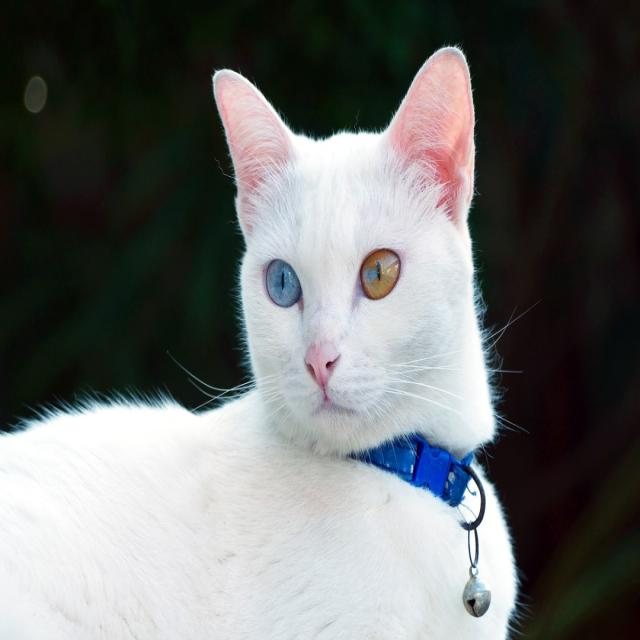Khao Manee: (0, 39, 523, 640)
